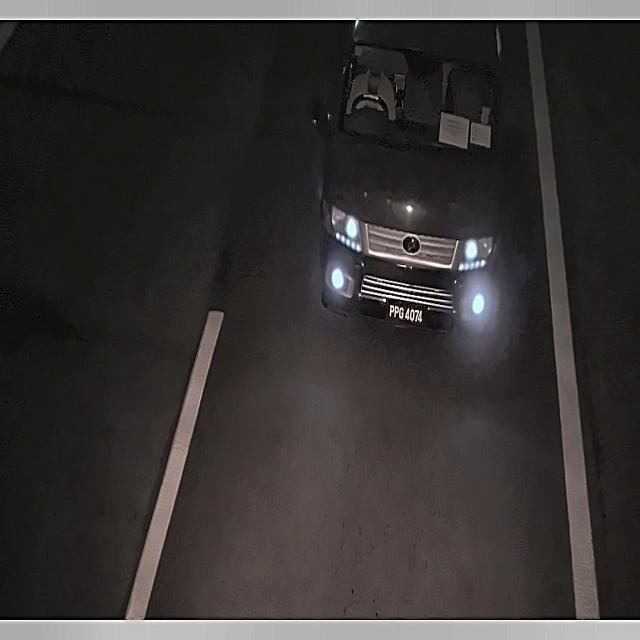car: (385, 298, 429, 332)
